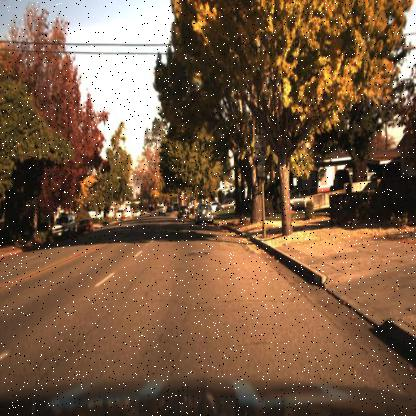car: (280, 186, 315, 218), (50, 212, 79, 244), (192, 198, 216, 224), (216, 197, 241, 216), (75, 216, 96, 238), (176, 204, 191, 223)
